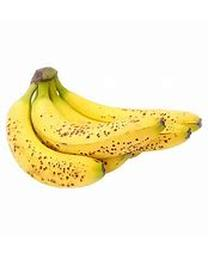banana: (3, 65, 204, 188)
